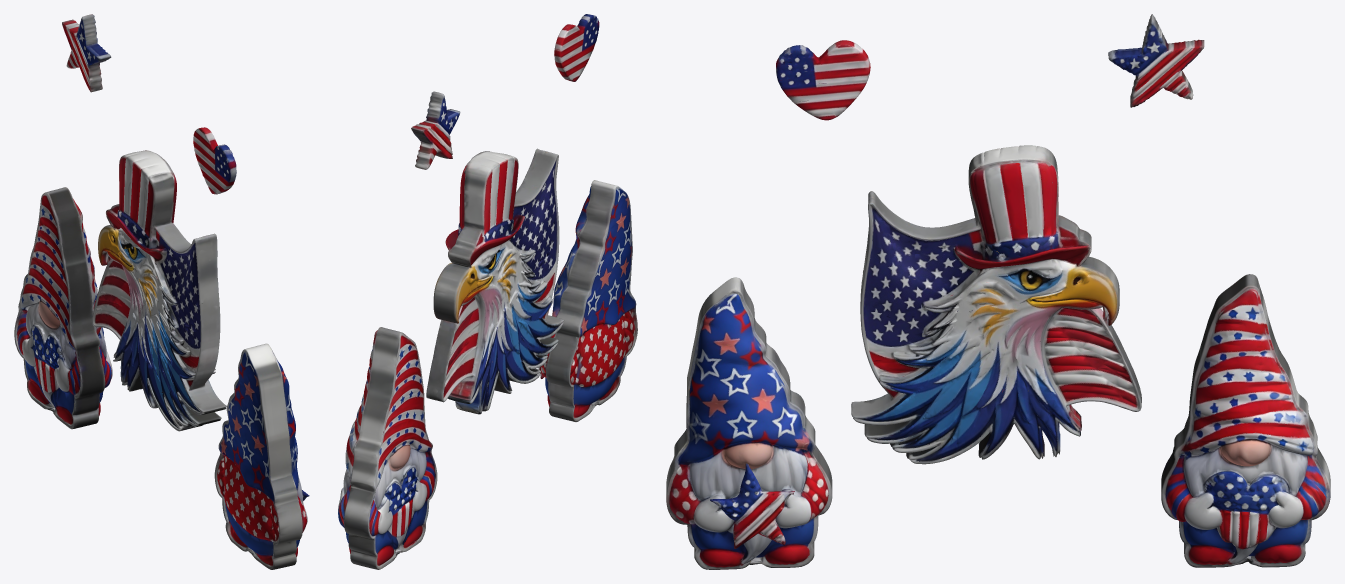
The model's file is FridgeMagnet.fbx.
3 renders of one model, left to right at view 1: azimuth 30°, elevation 25°; view 2: azimuth 150°, elevation 25°; view 3: azimuth 270°, elevation 25°, orthographic. The views are drawn at different scales.
Visible parts, largest first — view 1: tripo_part_3, tripo_part_1, tripo_part_2, tripo_part_4, tripo_part_6; view 2: tripo_part_3, tripo_part_1, tripo_part_2, tripo_part_4, tripo_part_6; view 3: tripo_part_3, tripo_part_1, tripo_part_2, tripo_part_6, tripo_part_4.
Part boxes in pixels (x1=…): tripo_part_3: x1=92, y1=150, x2=226, y2=431; tripo_part_1: x1=14, y1=187, x2=112, y2=429; tripo_part_2: x1=214, y1=343, x2=309, y2=569; tripo_part_4: x1=62, y1=14, x2=111, y2=92; tripo_part_6: x1=193, y1=127, x2=236, y2=194; tripo_part_3: x1=426, y1=148, x2=564, y2=414; tripo_part_1: x1=338, y1=327, x2=437, y2=569; tripo_part_2: x1=538, y1=180, x2=637, y2=421; tripo_part_4: x1=411, y1=91, x2=460, y2=169; tripo_part_6: x1=554, y1=14, x2=599, y2=81; tripo_part_3: x1=851, y1=145, x2=1141, y2=464; tripo_part_1: x1=1161, y1=274, x2=1330, y2=567; tripo_part_2: x1=666, y1=277, x2=832, y2=569; tripo_part_6: x1=776, y1=40, x2=870, y2=120; tripo_part_4: x1=1108, y1=14, x2=1204, y2=107.
Size of the model in its own units: 12.68 by 97.89 by 87.21.
Materials: 5 (5 with a texture image).
